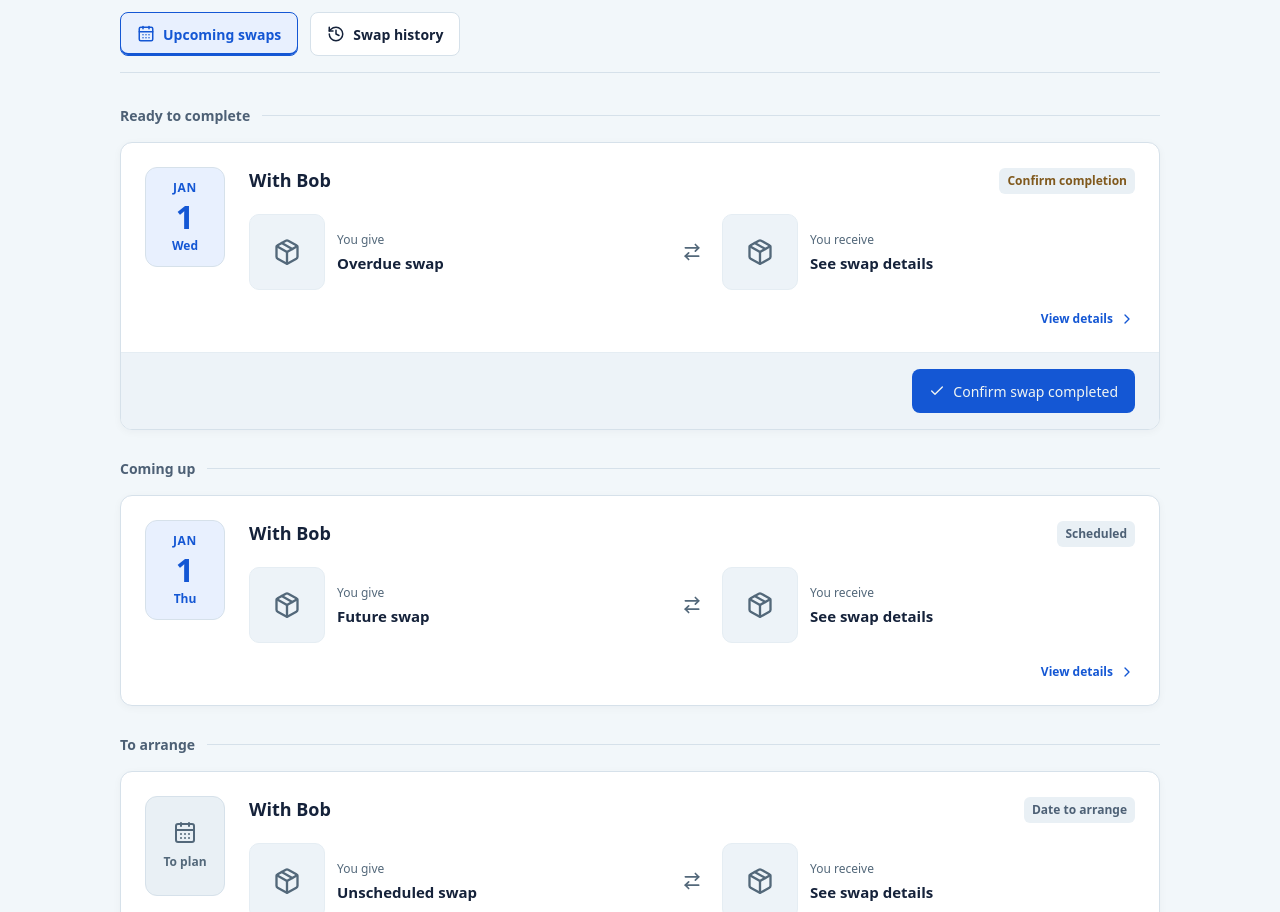
upcoming and history are separate tab panels
Expected: the text "Overdue swap" is shown, [337,252,444,274]
Expected: the text "Future swap" is shown, [337,606,430,626]
Step 1. Click the tab "Swap history" → coordinates (385, 34), box [310,12,460,56]
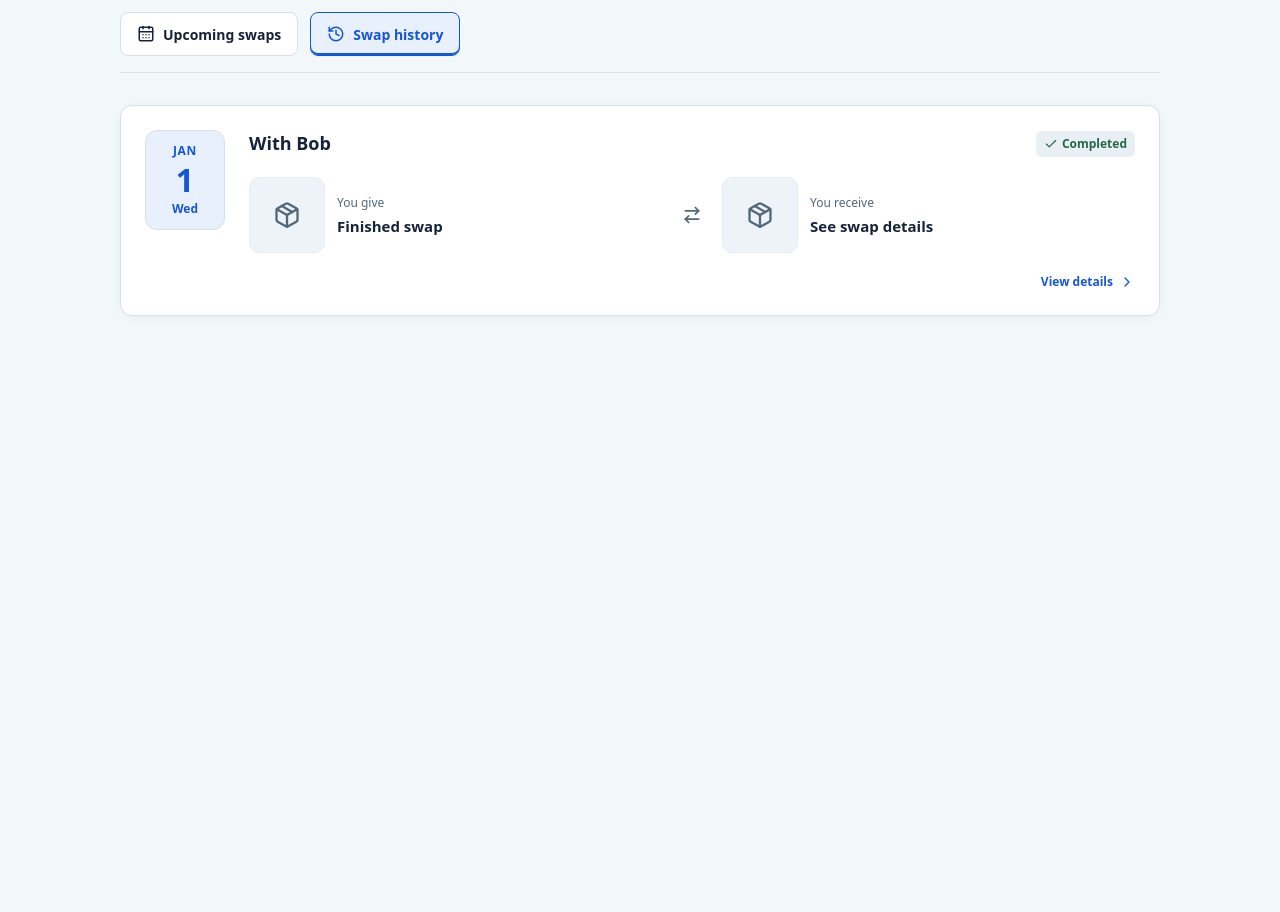
Expected: the text "Finished swap" is shown, [337,216,443,236]
Expected: the link "Overdue swap" is gone
